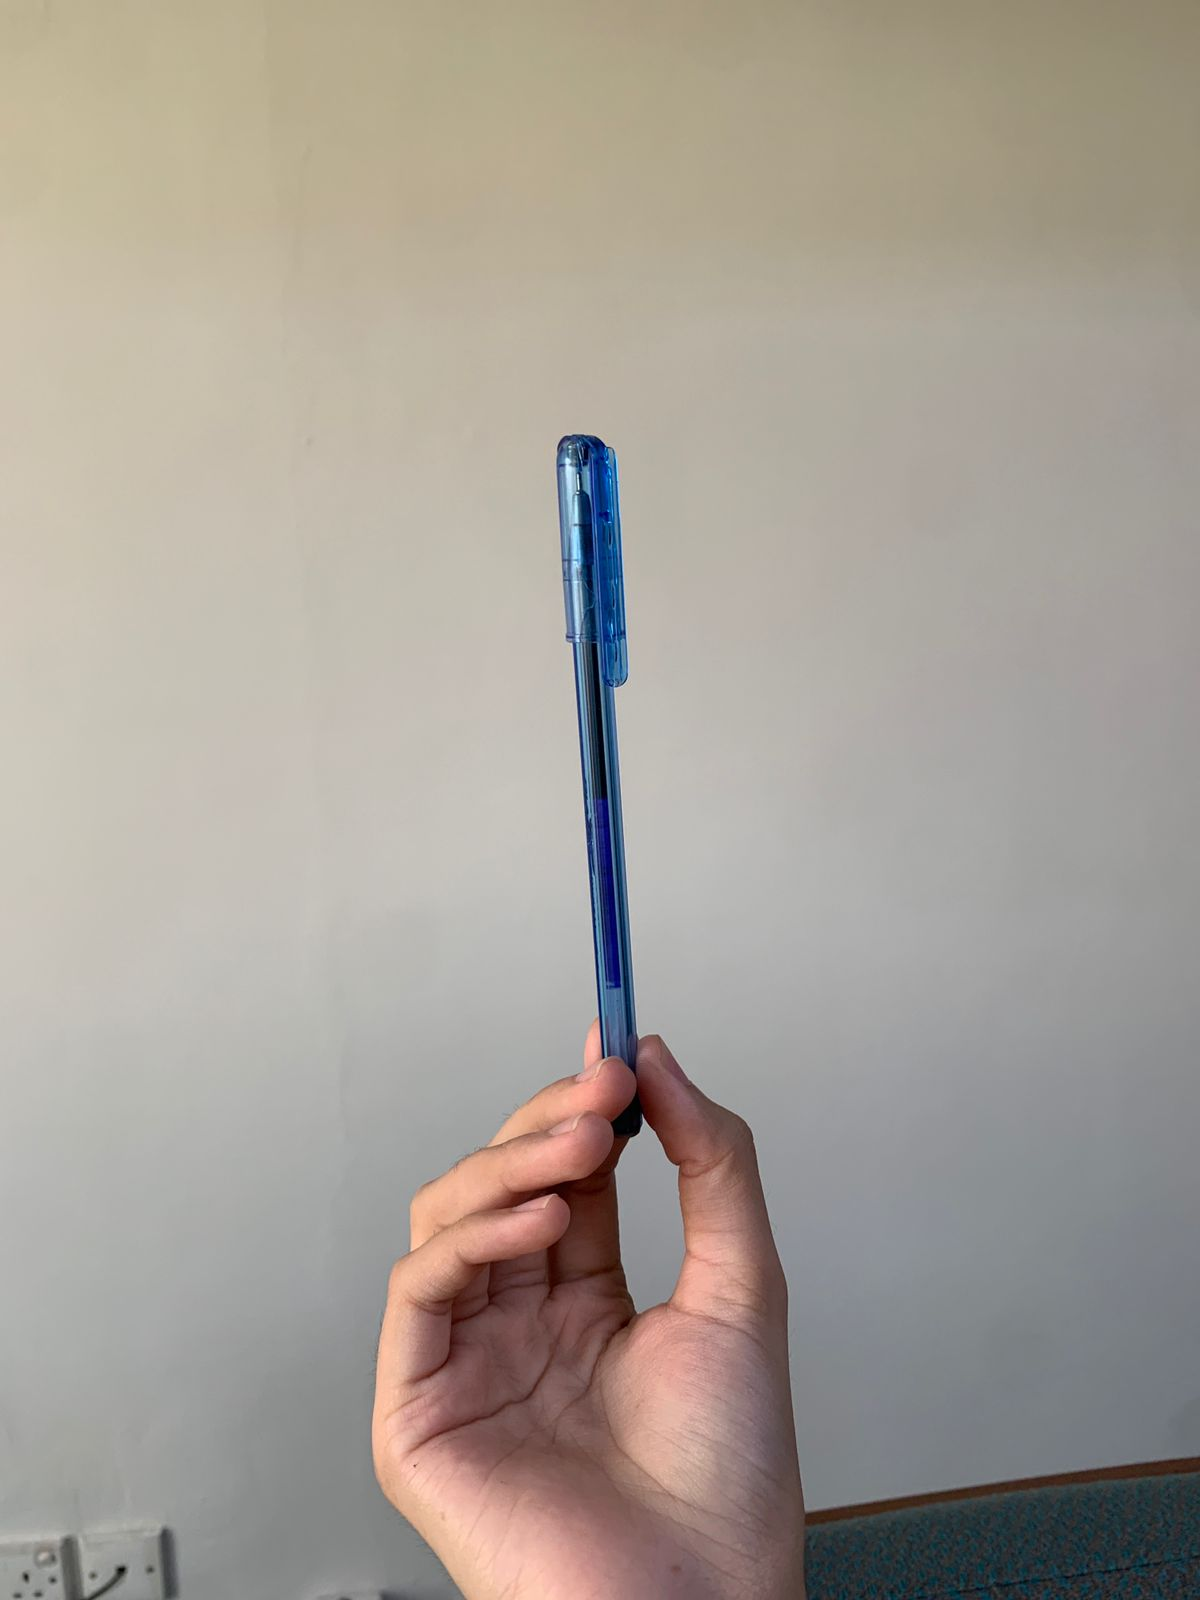pen: (442, 392, 804, 1186)
